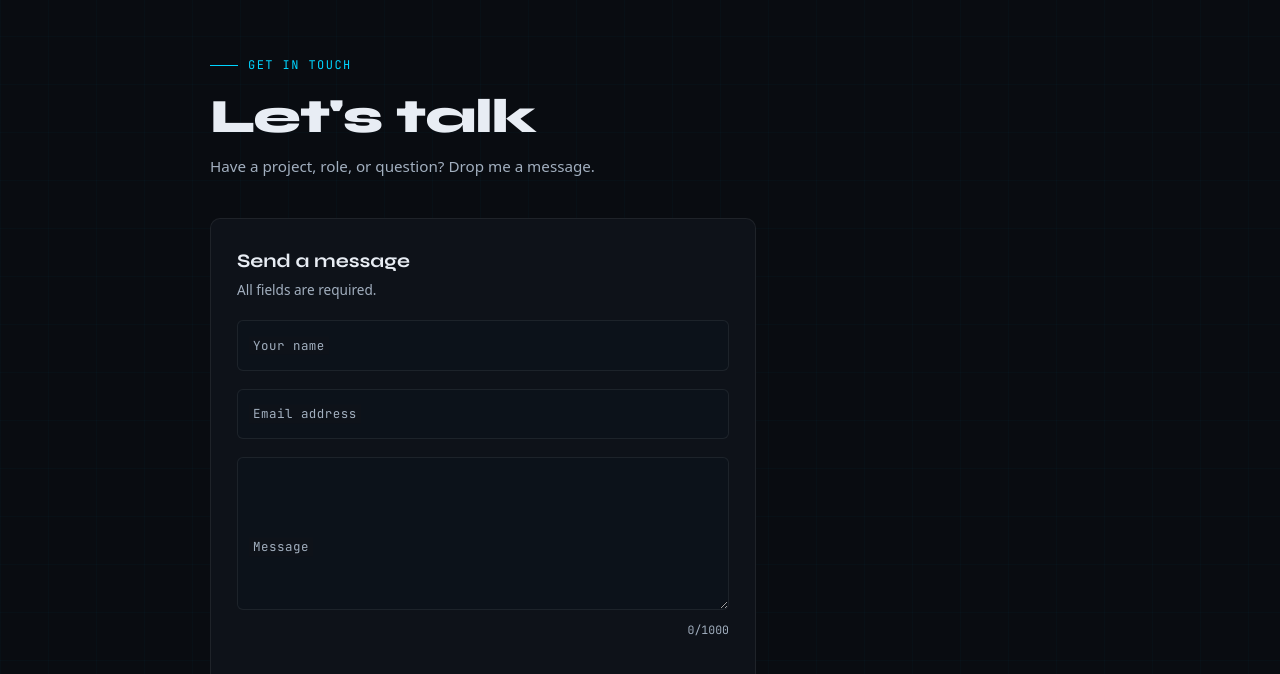
Test: Contact › requires captcha configuration before submitting a valid form
The width and height of the screenshot is (1280, 674).
Type "Max Petrykin" into the field named "your name" at (483,346), box top-left (237, 320), bottom-right (729, 371)
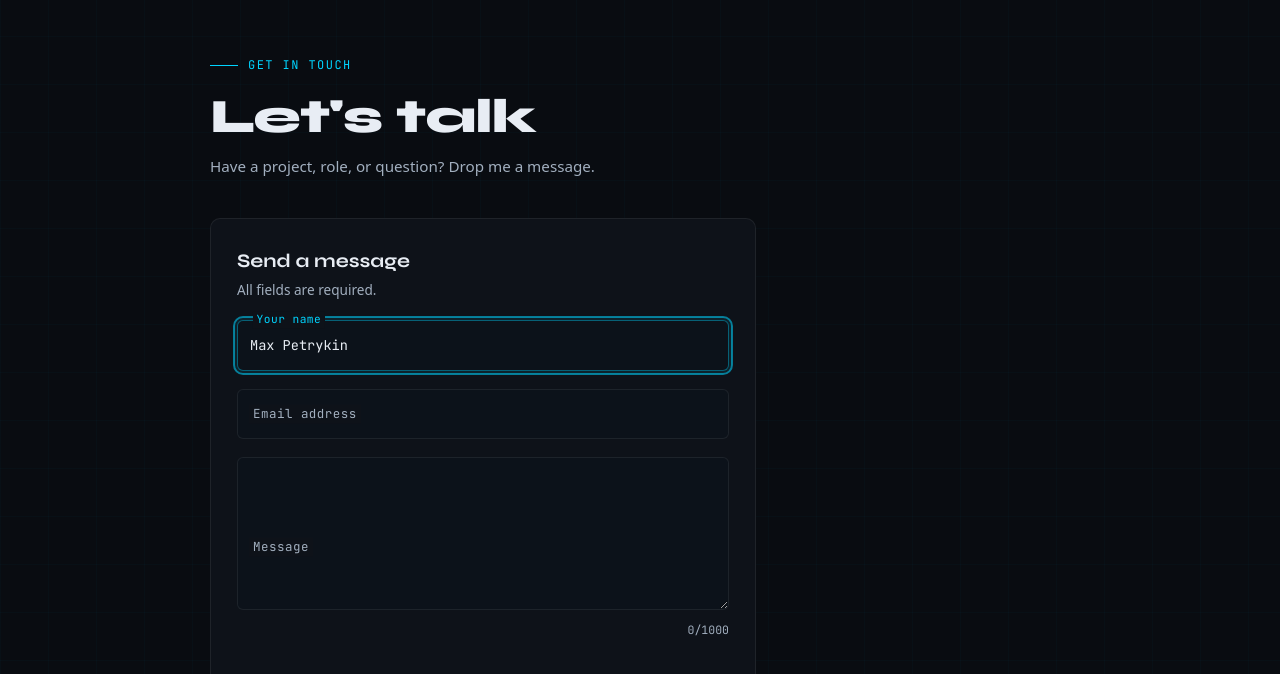
Type "max@example.com" into the field named "email address" at (483,414), box top-left (237, 389), bottom-right (729, 439)
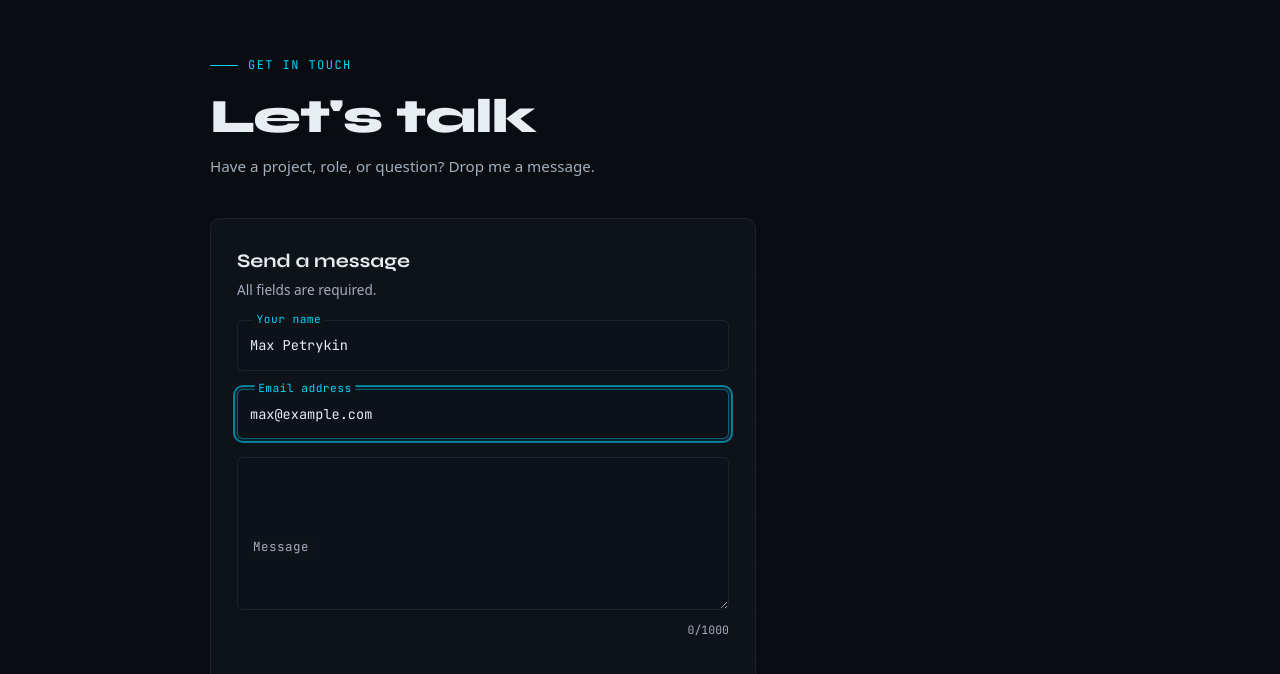
Type "This is a valid contact message." into the text box named "message" at (483,533), box top-left (237, 457), bottom-right (729, 610)
(page scrolled)
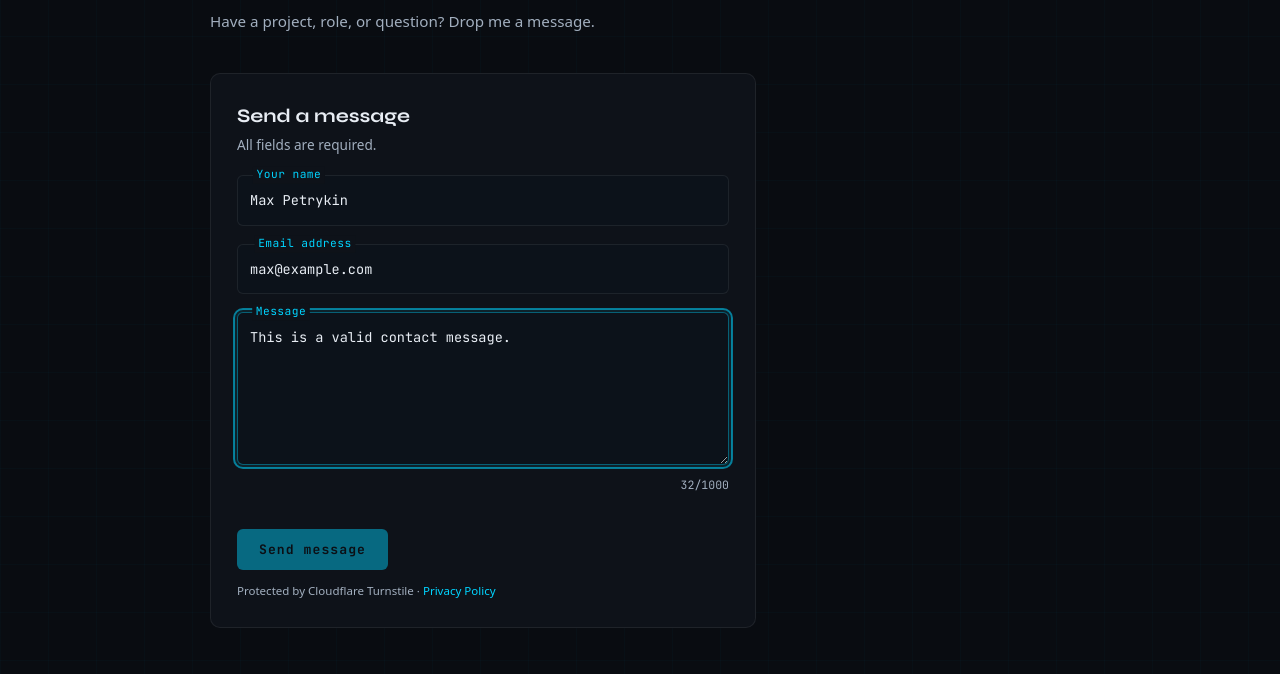
Submit the form, box top-left (210, 73), bottom-right (756, 628)
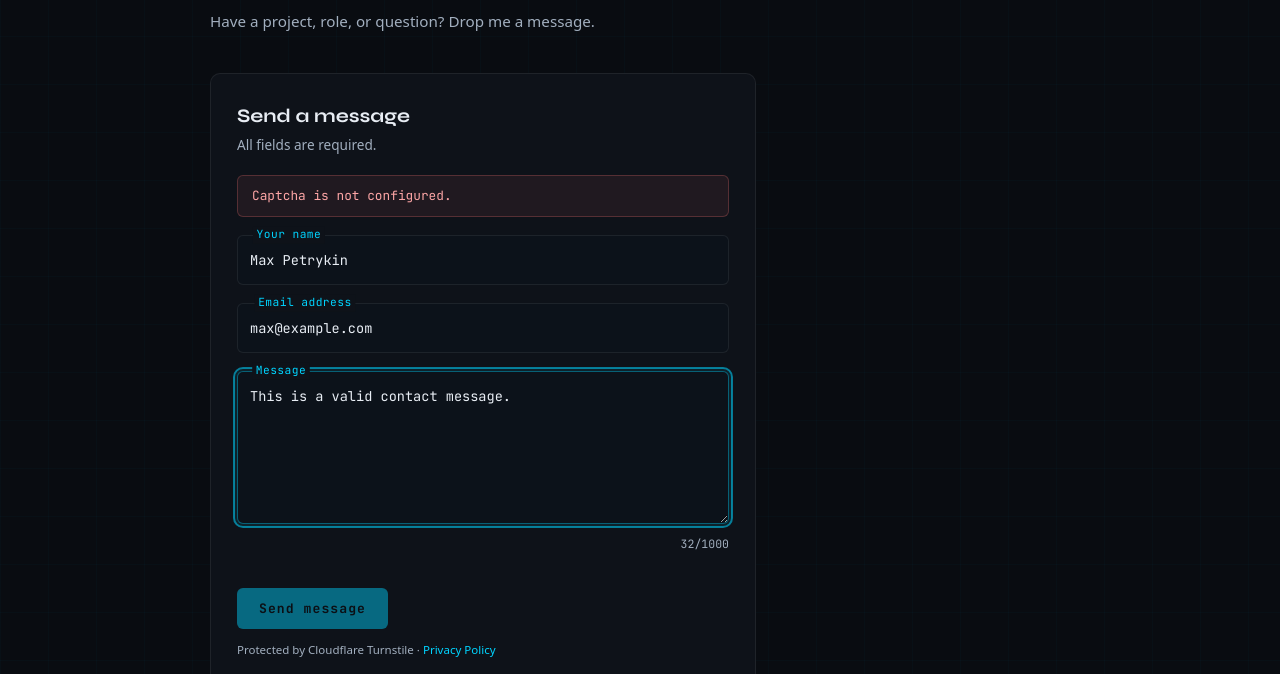
Result: the message shows "Captcha is not configured" at top-left (252, 187), bottom-right (452, 204)
